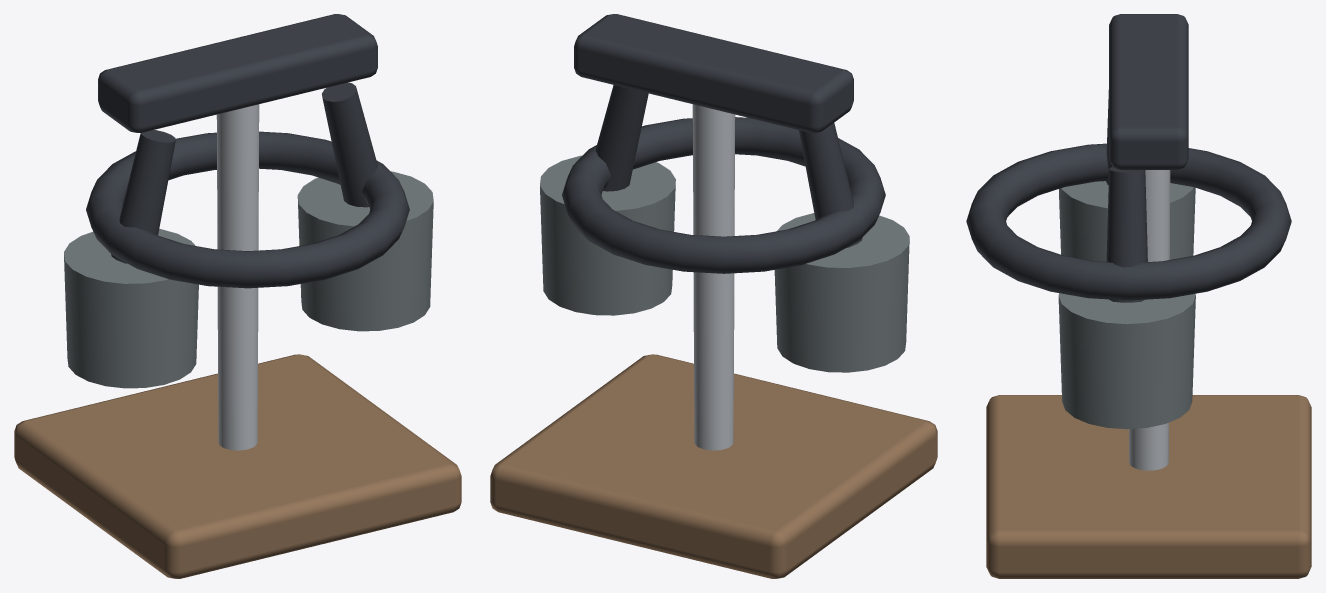
File: headset_stand01.glb
3 renders of one model, left to right at view 1: azimuth 30°, elevation 25°; view 2: azimuth 150°, elevation 25°; view 3: azimuth 270°, elevation 25°, orthographic.
Visible parts, largest first — view 1: base, earcups, headband, crown, shaft, wire; view 2: base, earcups, headband, crown, shaft, wire; view 3: base, headband, earcups, crown, wire, shaft.
Boxes of the visible parts, left/top/right/bottom form: base: left=14, top=354, right=461, bottom=578; earcups: left=64, top=171, right=433, bottom=388; headband: left=86, top=131, right=409, bottom=288; crown: left=98, top=14, right=377, bottom=132; shaft: left=216, top=104, right=259, bottom=450; wire: left=111, top=82, right=377, bottom=263; base: left=490, top=354, right=937, bottom=578; earcups: left=540, top=155, right=909, bottom=372; headband: left=562, top=117, right=885, bottom=273; crown: left=574, top=14, right=853, bottom=132; shaft: left=692, top=104, right=735, bottom=450; wire: left=595, top=85, right=862, bottom=247; base: left=986, top=395, right=1311, bottom=578; headband: left=966, top=143, right=1291, bottom=300; earcups: left=1058, top=181, right=1195, bottom=429; crown: left=1109, top=14, right=1188, bottom=169; wire: left=1106, top=90, right=1147, bottom=302; shaft: left=1129, top=170, right=1170, bottom=470.
Size of the model in its own units: 0.226 by 0.269 by 0.191.
